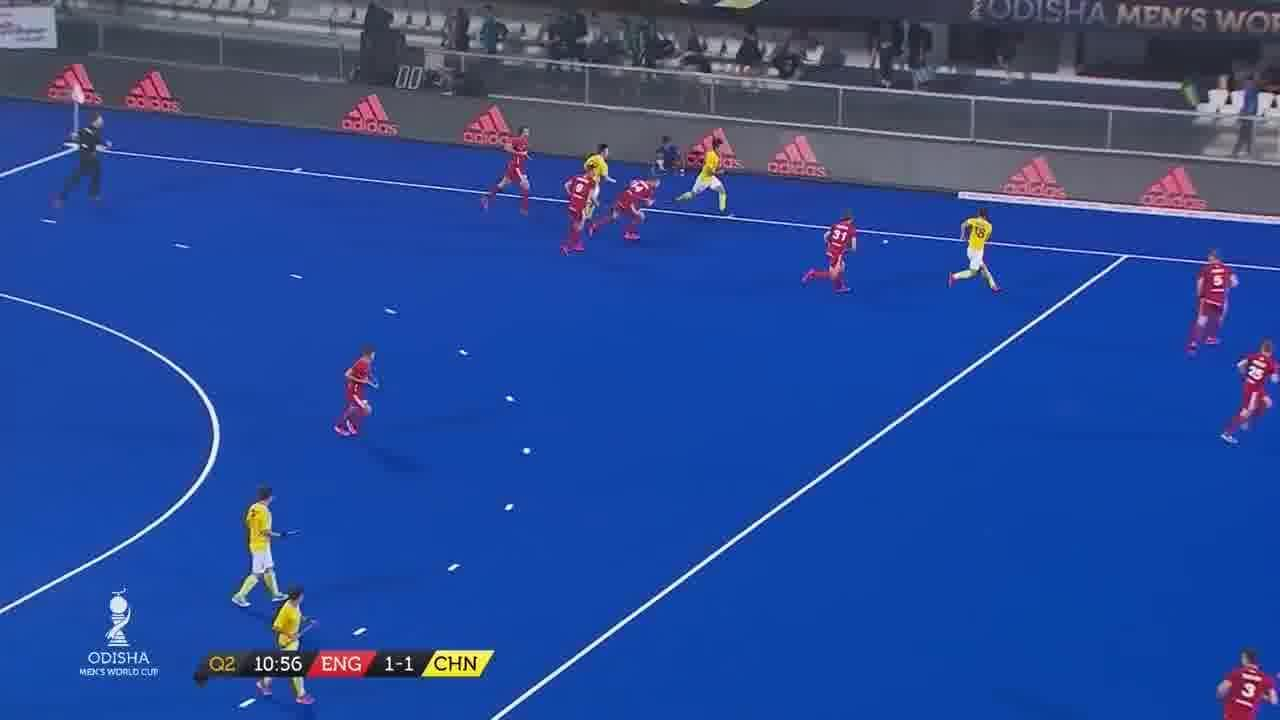ball: (876, 236, 891, 251)
